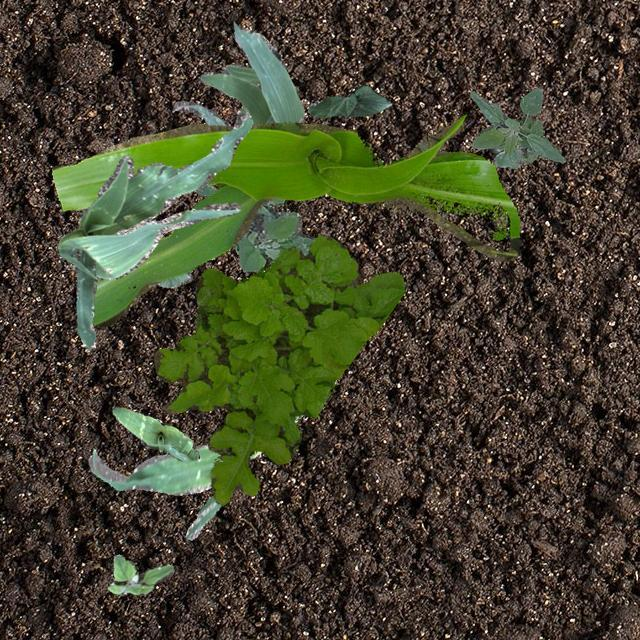crop: (51, 114, 518, 326), (56, 106, 252, 348), (87, 414, 301, 538), (172, 20, 304, 126), (468, 86, 564, 168), (112, 406, 198, 460), (306, 84, 391, 116), (156, 270, 192, 286)
weed: (152, 234, 406, 504), (197, 184, 316, 270), (106, 554, 172, 594)
